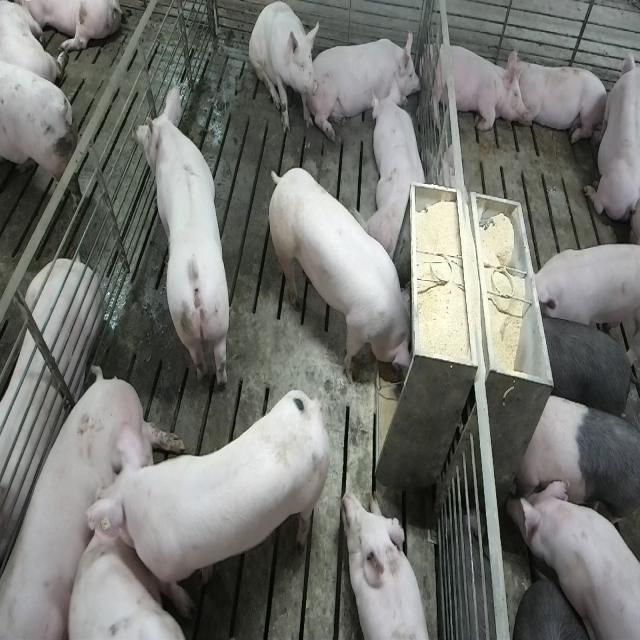Feeding: (272, 166, 422, 390)
Lateral_lying: (2, 362, 187, 636), (0, 258, 103, 600)
Sitting: (249, 2, 320, 137)
Standing: (80, 390, 332, 619), (134, 86, 233, 398), (503, 472, 638, 640), (516, 386, 638, 548), (69, 541, 206, 637), (0, 64, 78, 222), (527, 243, 637, 345), (536, 312, 638, 420)
Sternal_lying: (344, 487, 434, 640), (314, 26, 422, 135), (369, 84, 430, 262), (584, 41, 637, 231), (425, 36, 525, 135), (511, 52, 610, 147)
